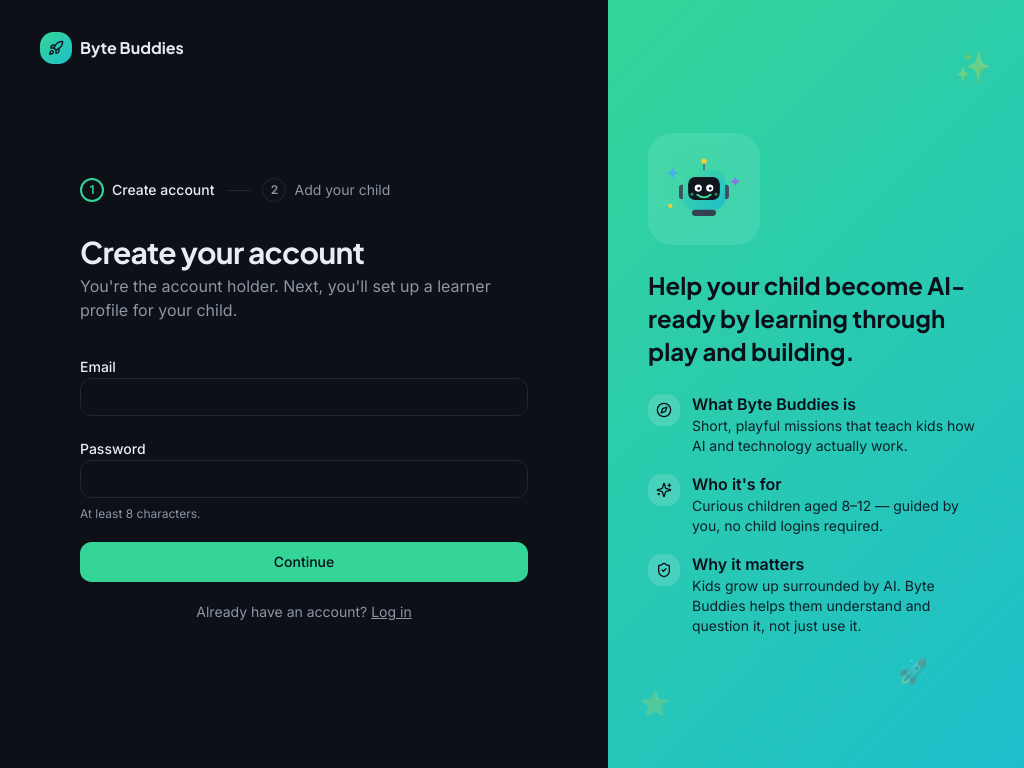
it: SignupPage › recovers from a network failure instead of silently hanging
The image size is (1024, 768).
Type "parent@example.com" into the field labelled "Email".
click(304, 397); type("parent@example.com")  # box [80,378,528,416]
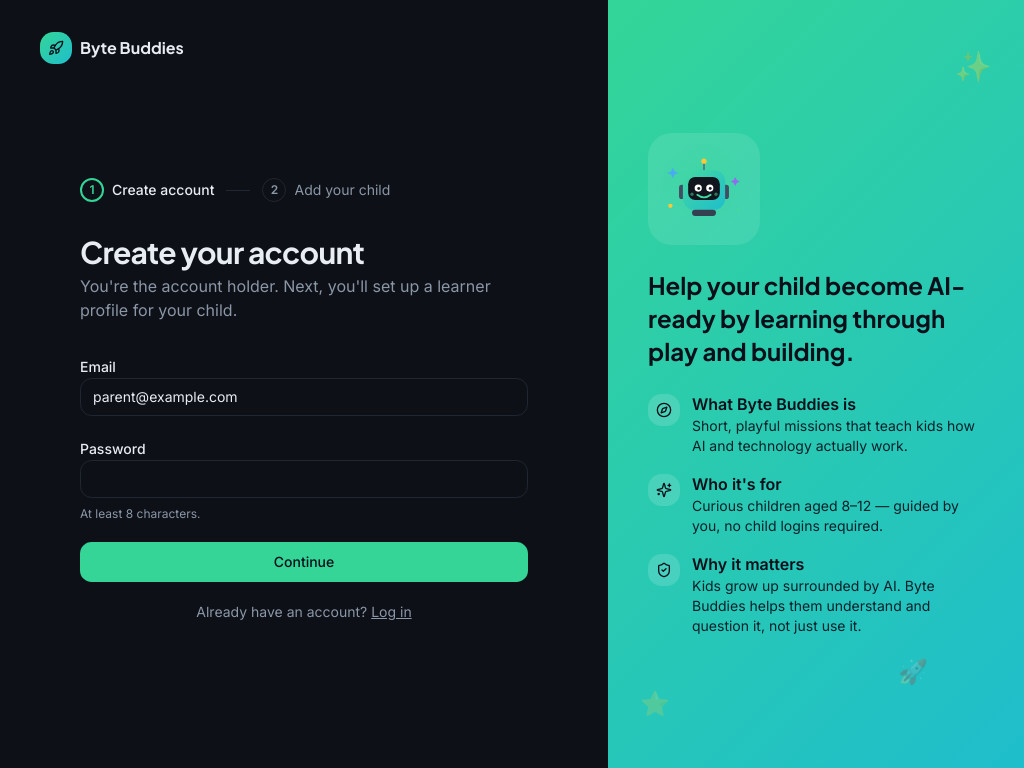
Type "supersecret" into the password field labelled "Password".
click(304, 479); type("supersecret")  # box [80,460,528,498]
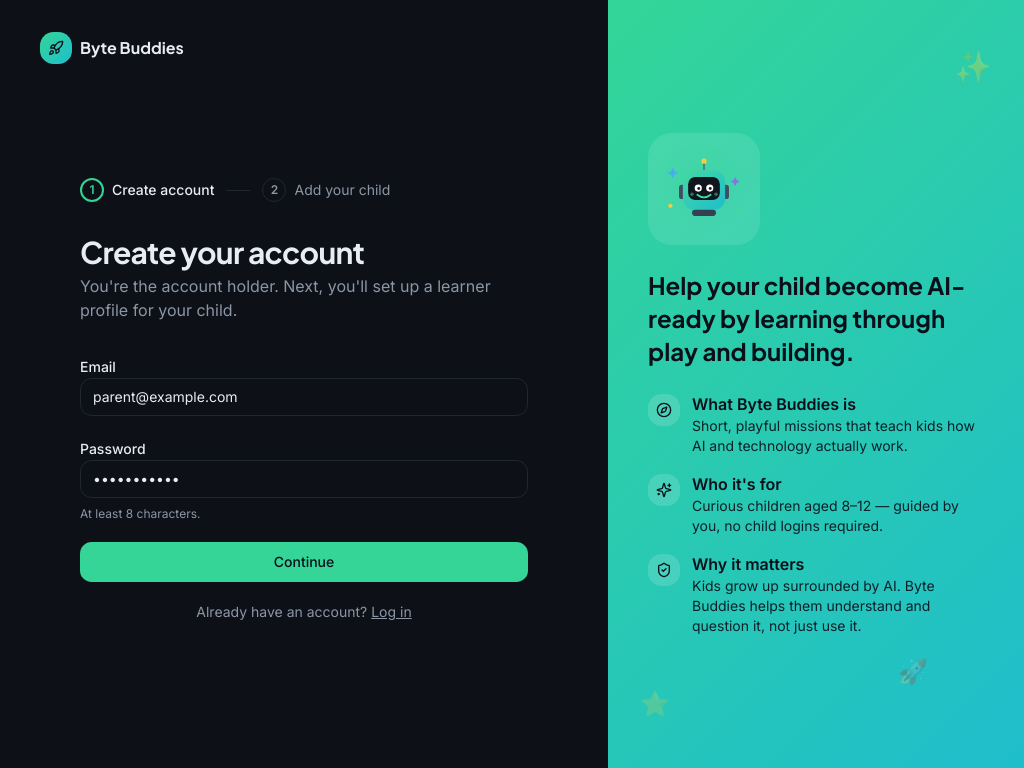
Click the button "Continue".
click(304, 562)  # box [80,542,528,582]
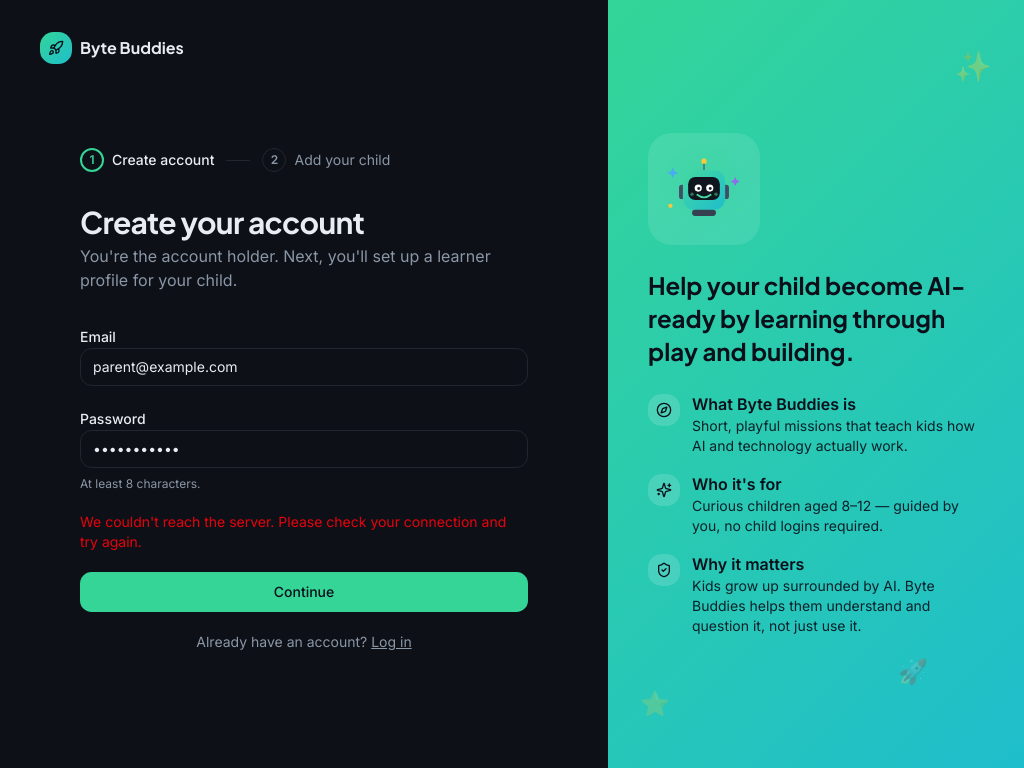
Expected: the button "Continue" is enabled, [80,572,528,612]
Expected: the message "We couldn't reach the server. Please check your connection and try again." is shown, [80,512,528,552]
